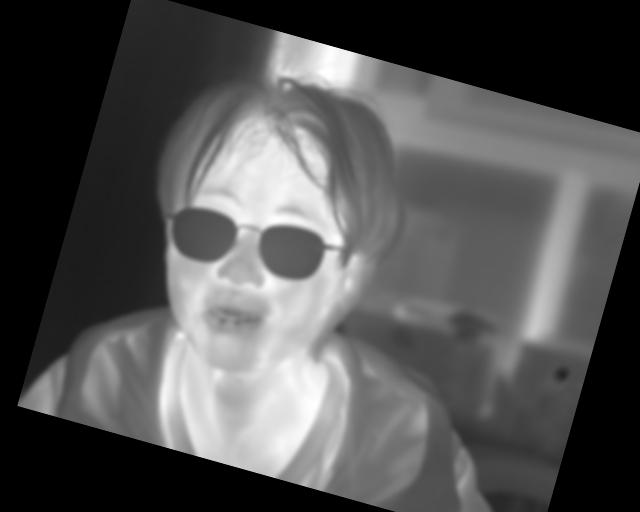face: (106, 39, 425, 407)
